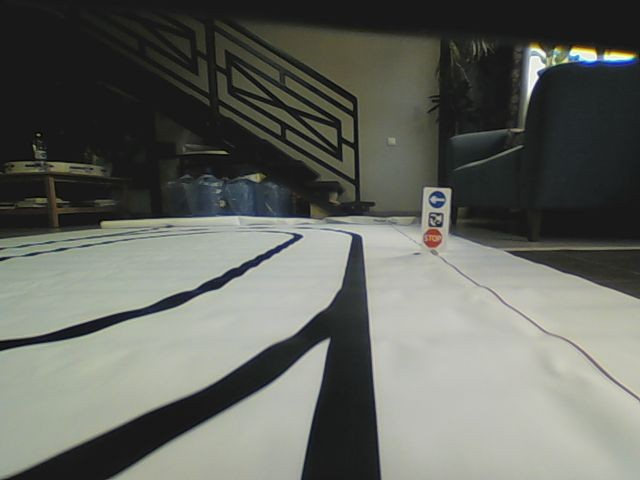Stop: (421, 229, 442, 247)
